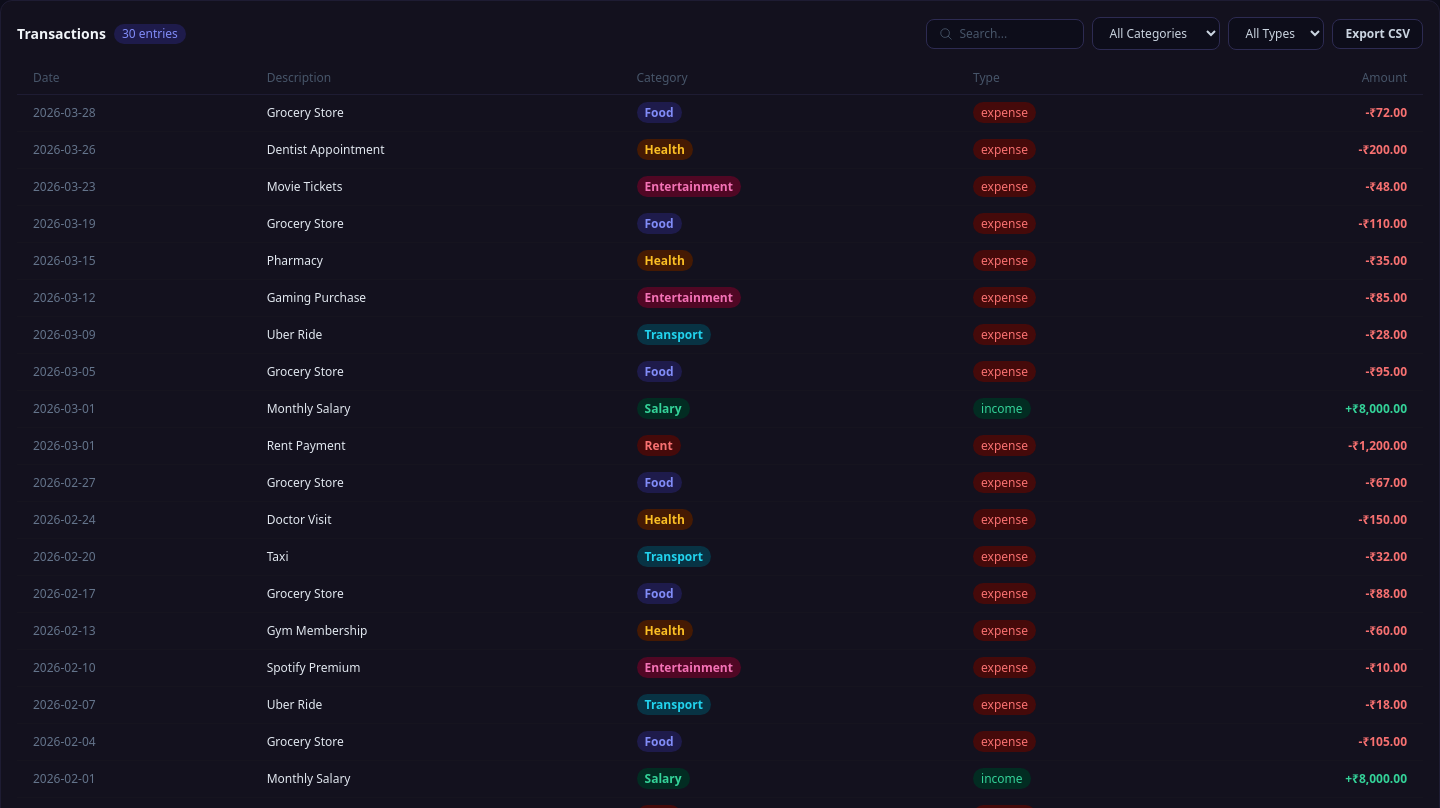
Test: TransactionsTable › shows "No transactions found" when search has no matches
Type "zzznomatch" into the field with placeholder "Search..." at (1016,34), box [960,26,1072,42]
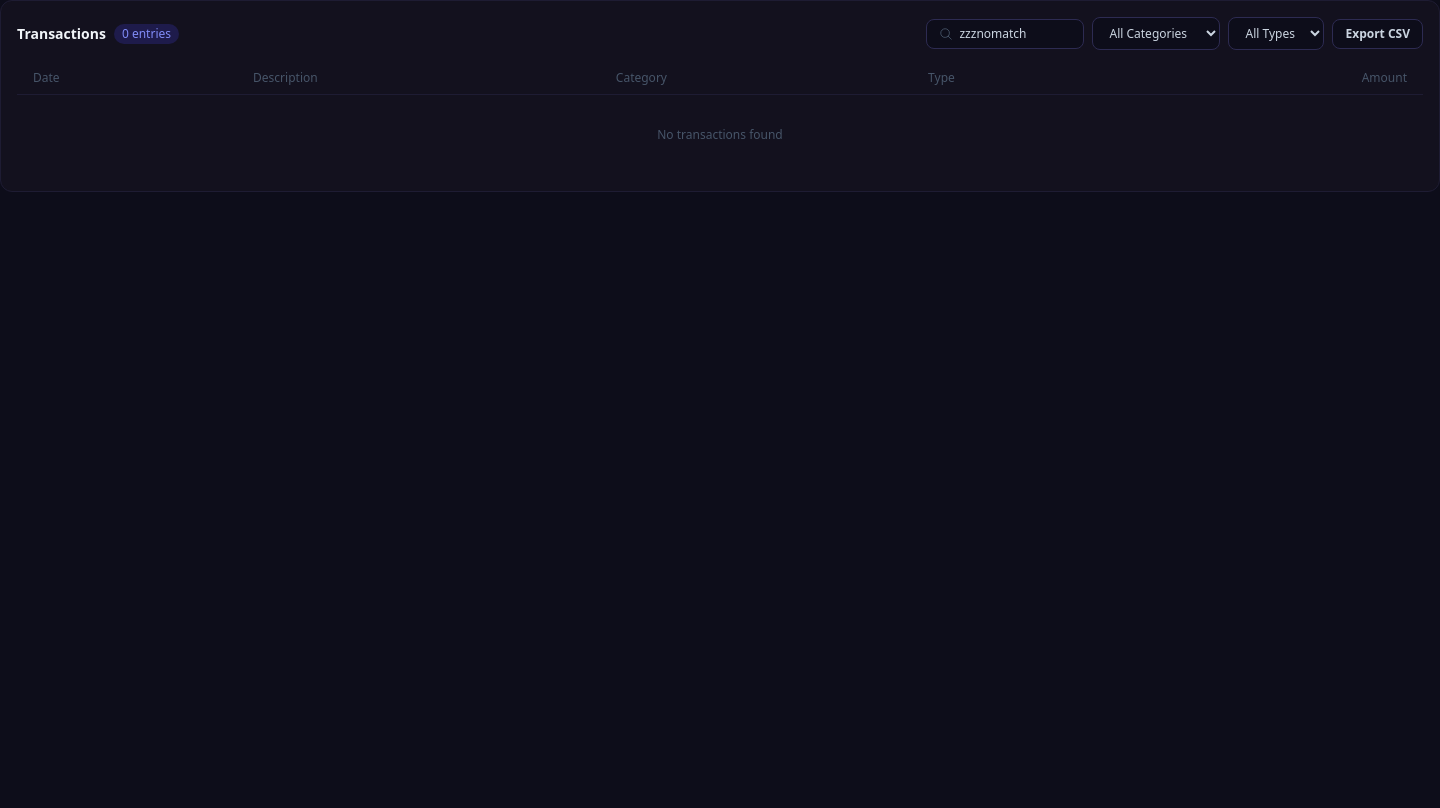
Now the text "No transactions found" is shown, box [17,94,1423,175]
